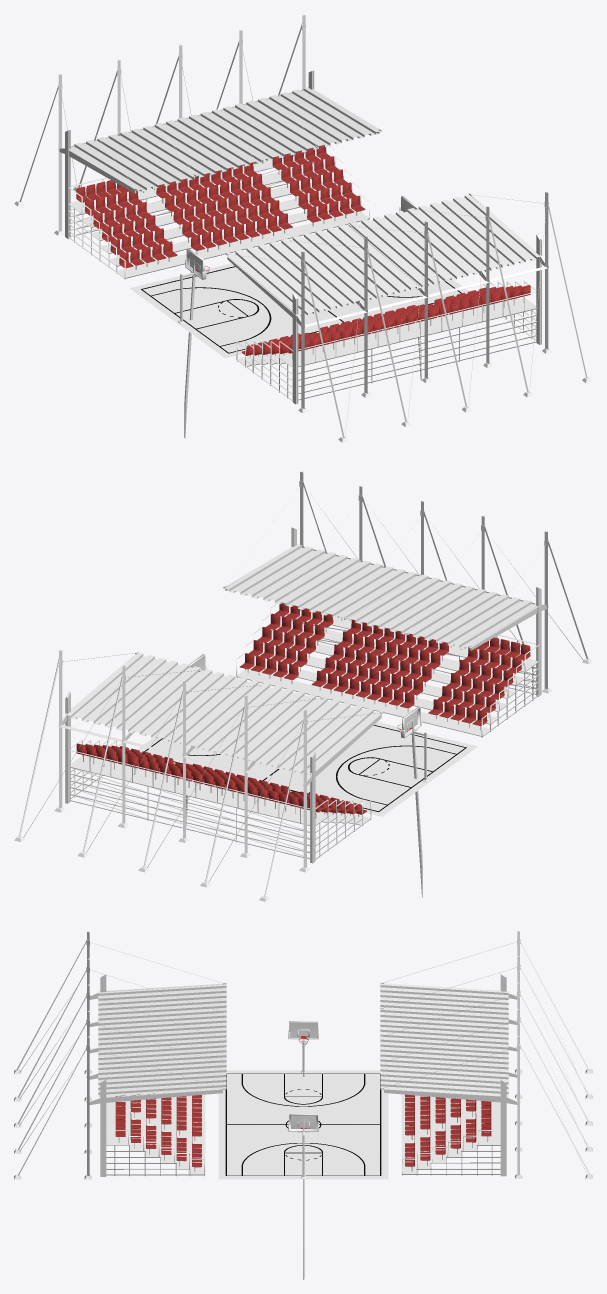
The model's file is basketArena.glb.
3 views of the same model, one above another, from view 1: azimuth 30°, elevation 25°; view 2: azimuth 150°, elevation 25°; view 3: azimuth 270°, elevation 25° (orthographic). The views are drawn at different scales.
Visible parts, largest first — view 1: Plane.028, Plane.019, Plane.011, Cylinder.035, Cube, Cube.013, Cylinder.034, Cube.010, Cylinder.027, Plane.022, Plane, Cube.015 (+15 smaller); view 2: Plane.019, Plane.028, Plane.011, Cylinder.027, Cube.015, Cube.016, Cylinder.026, Cube.017, Cylinder.035, Plane.012, Plane.021, Cube (+15 smaller); view 3: Plane.011, Plane.019, Plane.028, Cylinder.027, Cylinder.035, Cube.010, Cube.017, Cube.015, Cube, Plane.027, Cylinder.026, Plane.017 (+19 smaller).
Boxes of the visible parts, x1,y1,x2,y2 form: Plane.028: [224, 194, 541, 316]; Plane.019: [64, 87, 380, 191]; Plane.011: [129, 263, 468, 358]; Cylinder.035: [229, 191, 592, 442]; Cube: [156, 162, 292, 250]; Cube.013: [76, 180, 177, 268]; Cylinder.034: [244, 298, 536, 398]; Cube.010: [272, 145, 365, 222]; Cylinder.027: [14, 14, 379, 235]; Plane.022: [280, 297, 536, 366]; Plane: [117, 212, 368, 277]; Cube.015: [317, 302, 458, 335]; Plane.019: [65, 652, 381, 774]; Plane.028: [225, 544, 542, 649]; Plane.011: [137, 722, 477, 816]; Cylinder.027: [14, 649, 380, 901]; Cube.015: [311, 619, 448, 708]; Cube.016: [428, 637, 530, 726]; Cylinder.026: [70, 756, 363, 858]; Cube.017: [240, 603, 333, 680]; Cylinder.035: [227, 471, 592, 693]; Plane.012: [71, 756, 327, 824]; Plane.021: [238, 669, 489, 735]; Cube: [149, 761, 289, 794]; Plane.011: [218, 1070, 388, 1179]; Plane.019: [380, 983, 508, 1096]; Plane.028: [98, 983, 226, 1097]; Cylinder.027: [383, 930, 592, 1178]; Cylinder.035: [14, 931, 224, 1179]; Cube.010: [405, 1102, 491, 1166]; Cube.017: [115, 1102, 201, 1167]; Cube.015: [115, 1093, 201, 1136]; Cube: [405, 1094, 490, 1135]; Plane.027: [89, 982, 226, 1104]; Cylinder.026: [416, 1095, 500, 1175]; Plane.017: [380, 982, 517, 1104].
Size of the model in its own units: 13.57 by 14.2 by 30.47.
